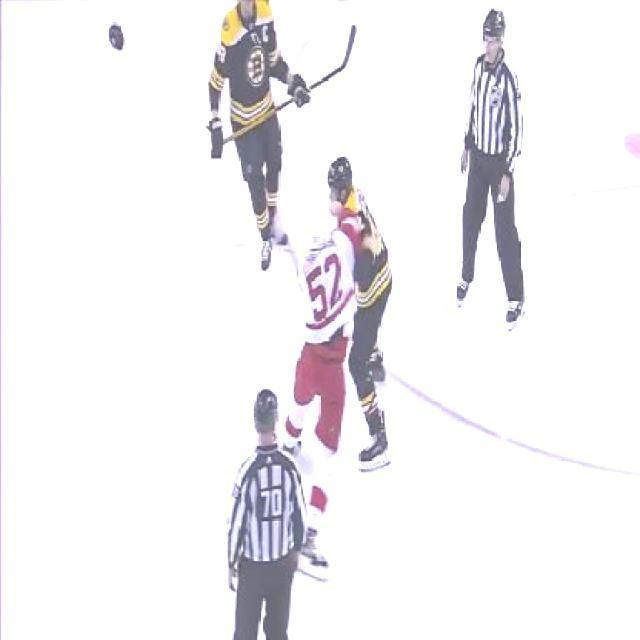fight: (290, 154, 395, 477)
